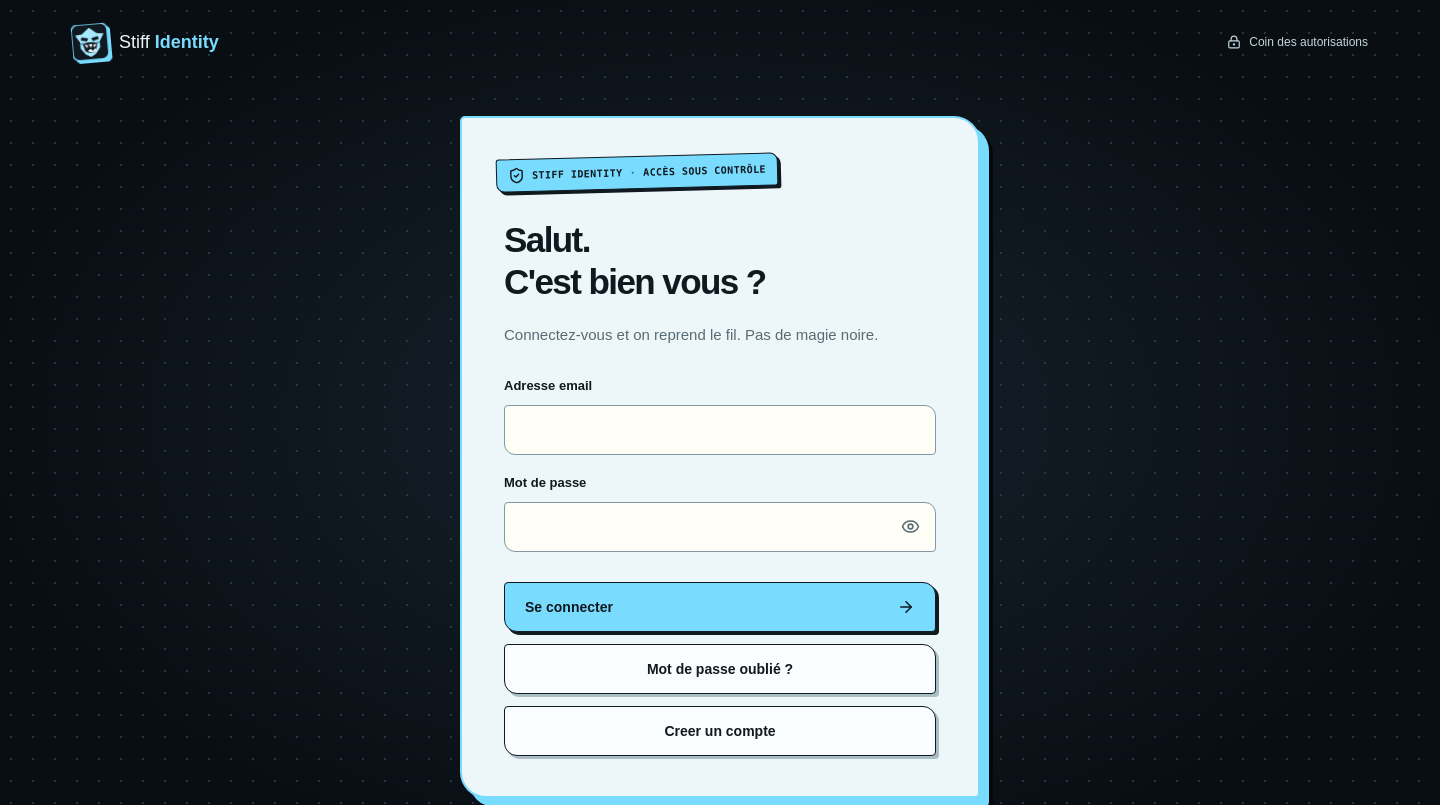
Test: interface › permet de reveler le mot de passe et annonce une erreur de connexion
Click the button named "Afficher le mot de passe" at (910, 526), box [888,504,932,548]
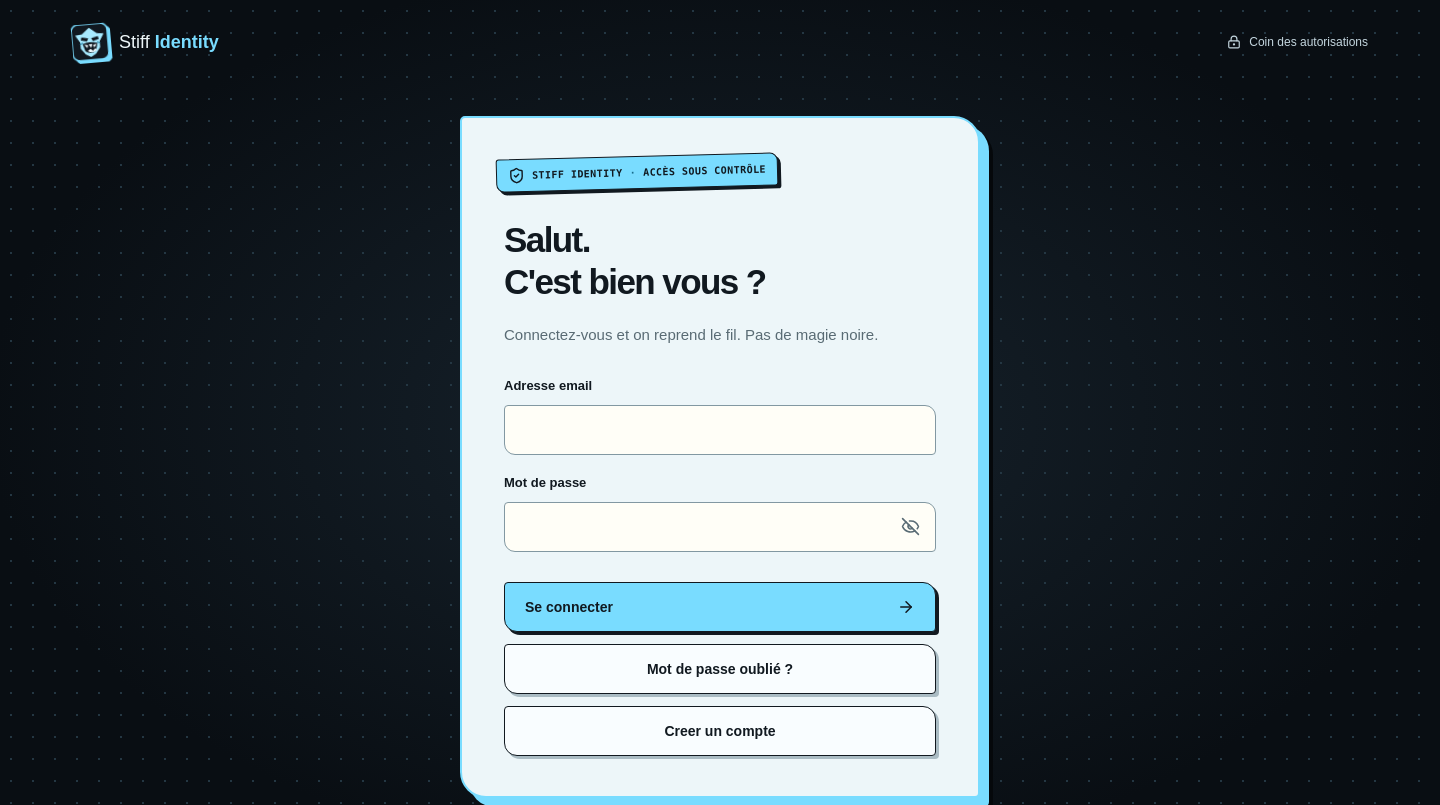
Type "user@example.com" into the field with id "email" at (720, 430), box [504,405,936,455]
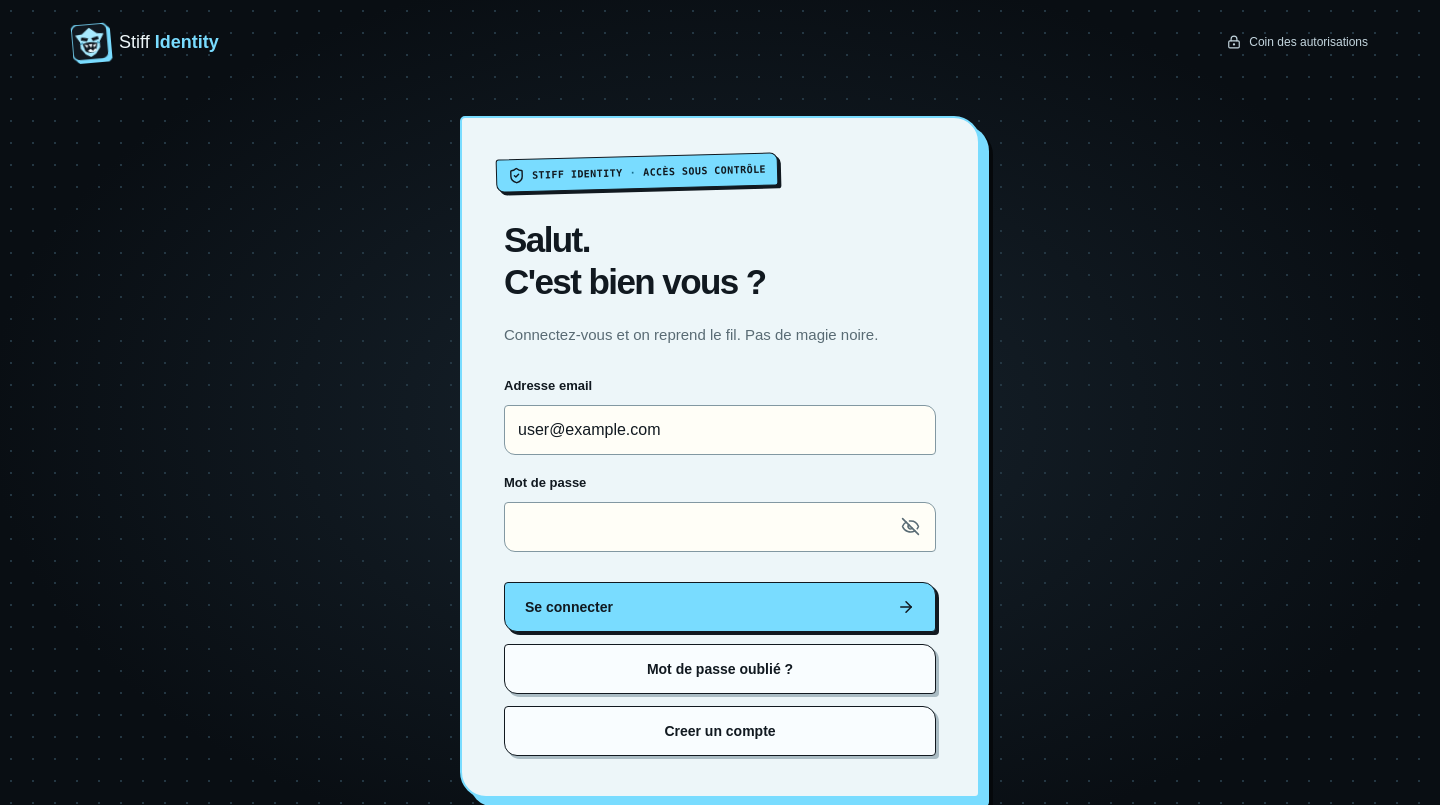
Type "secret-test" into the field labelled "Mot de passe" at (720, 527), box [504,502,936,552]
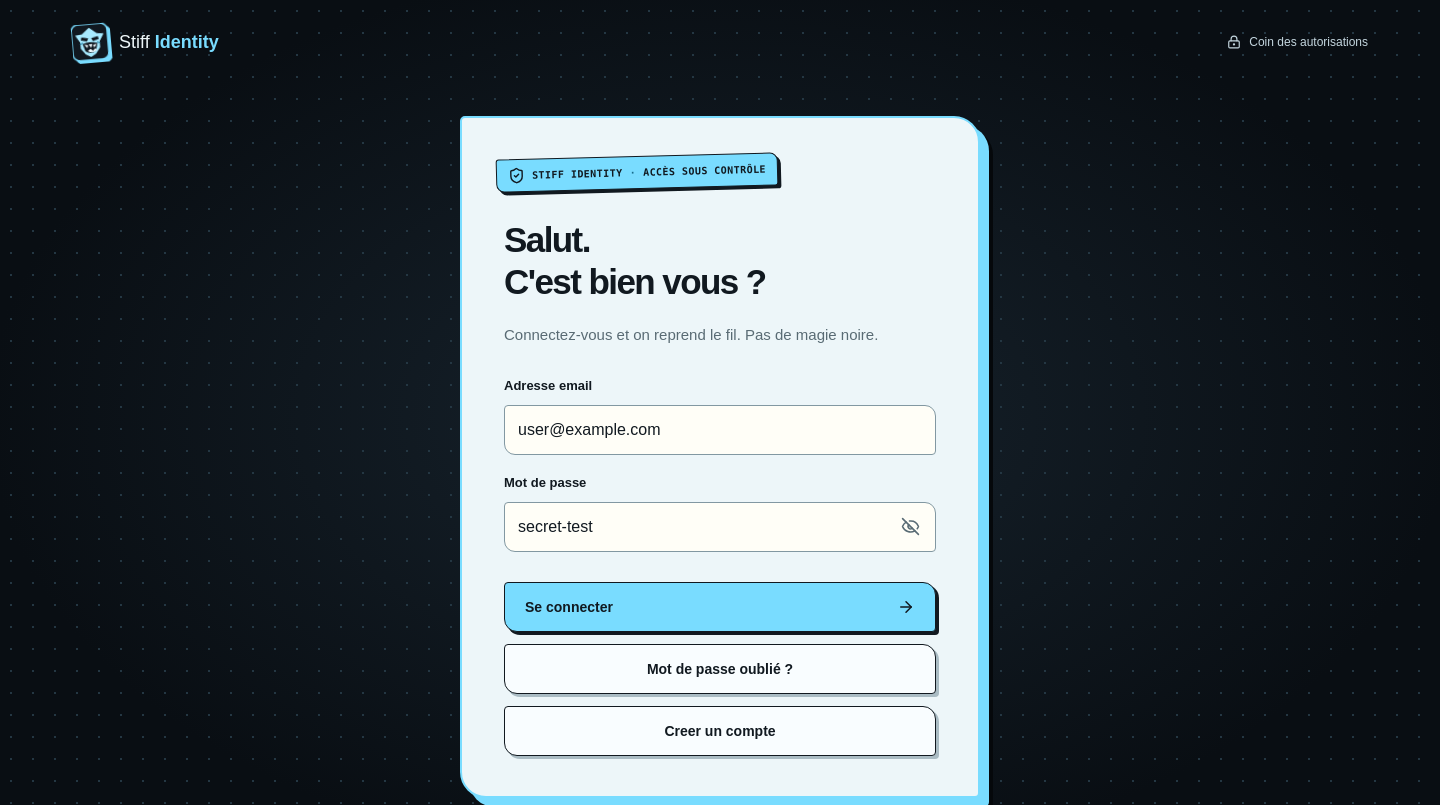
Submit the form, box [504,378,936,756]
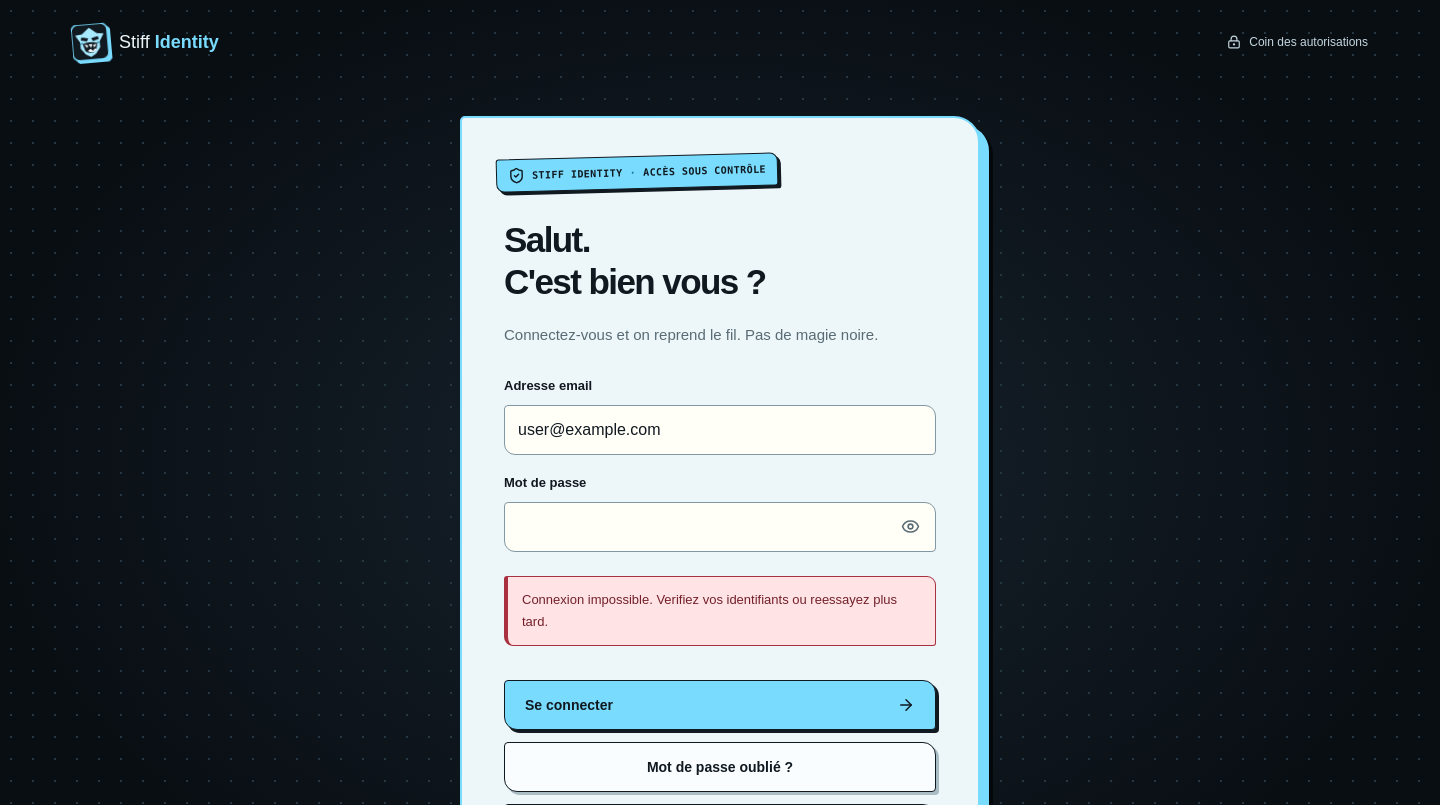
expect the password field labelled "Mot de passe" is empty: met, box [504,502,936,552]
expect the message "Connexion impossible. Verifiez vos identifiants ou reessayez plus tard." is shown: met, box [504,576,936,646]
